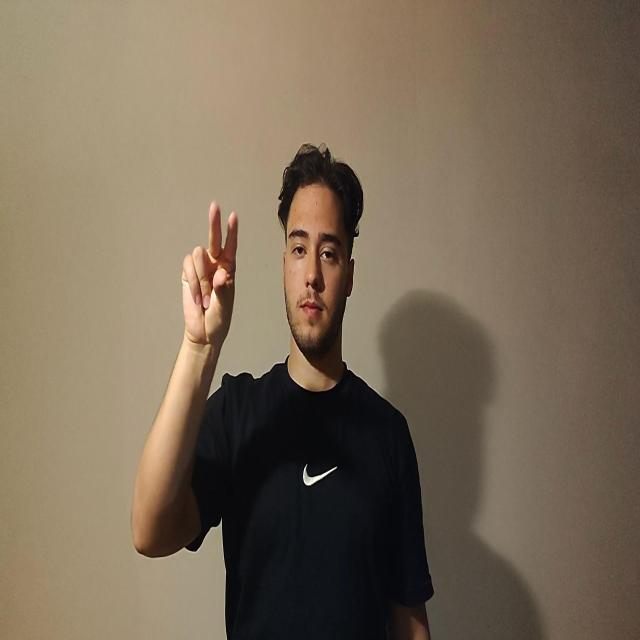no: (181, 200, 238, 351)
